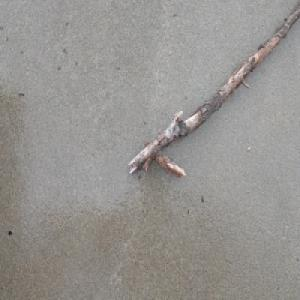Wood: (126, 0, 300, 178)
